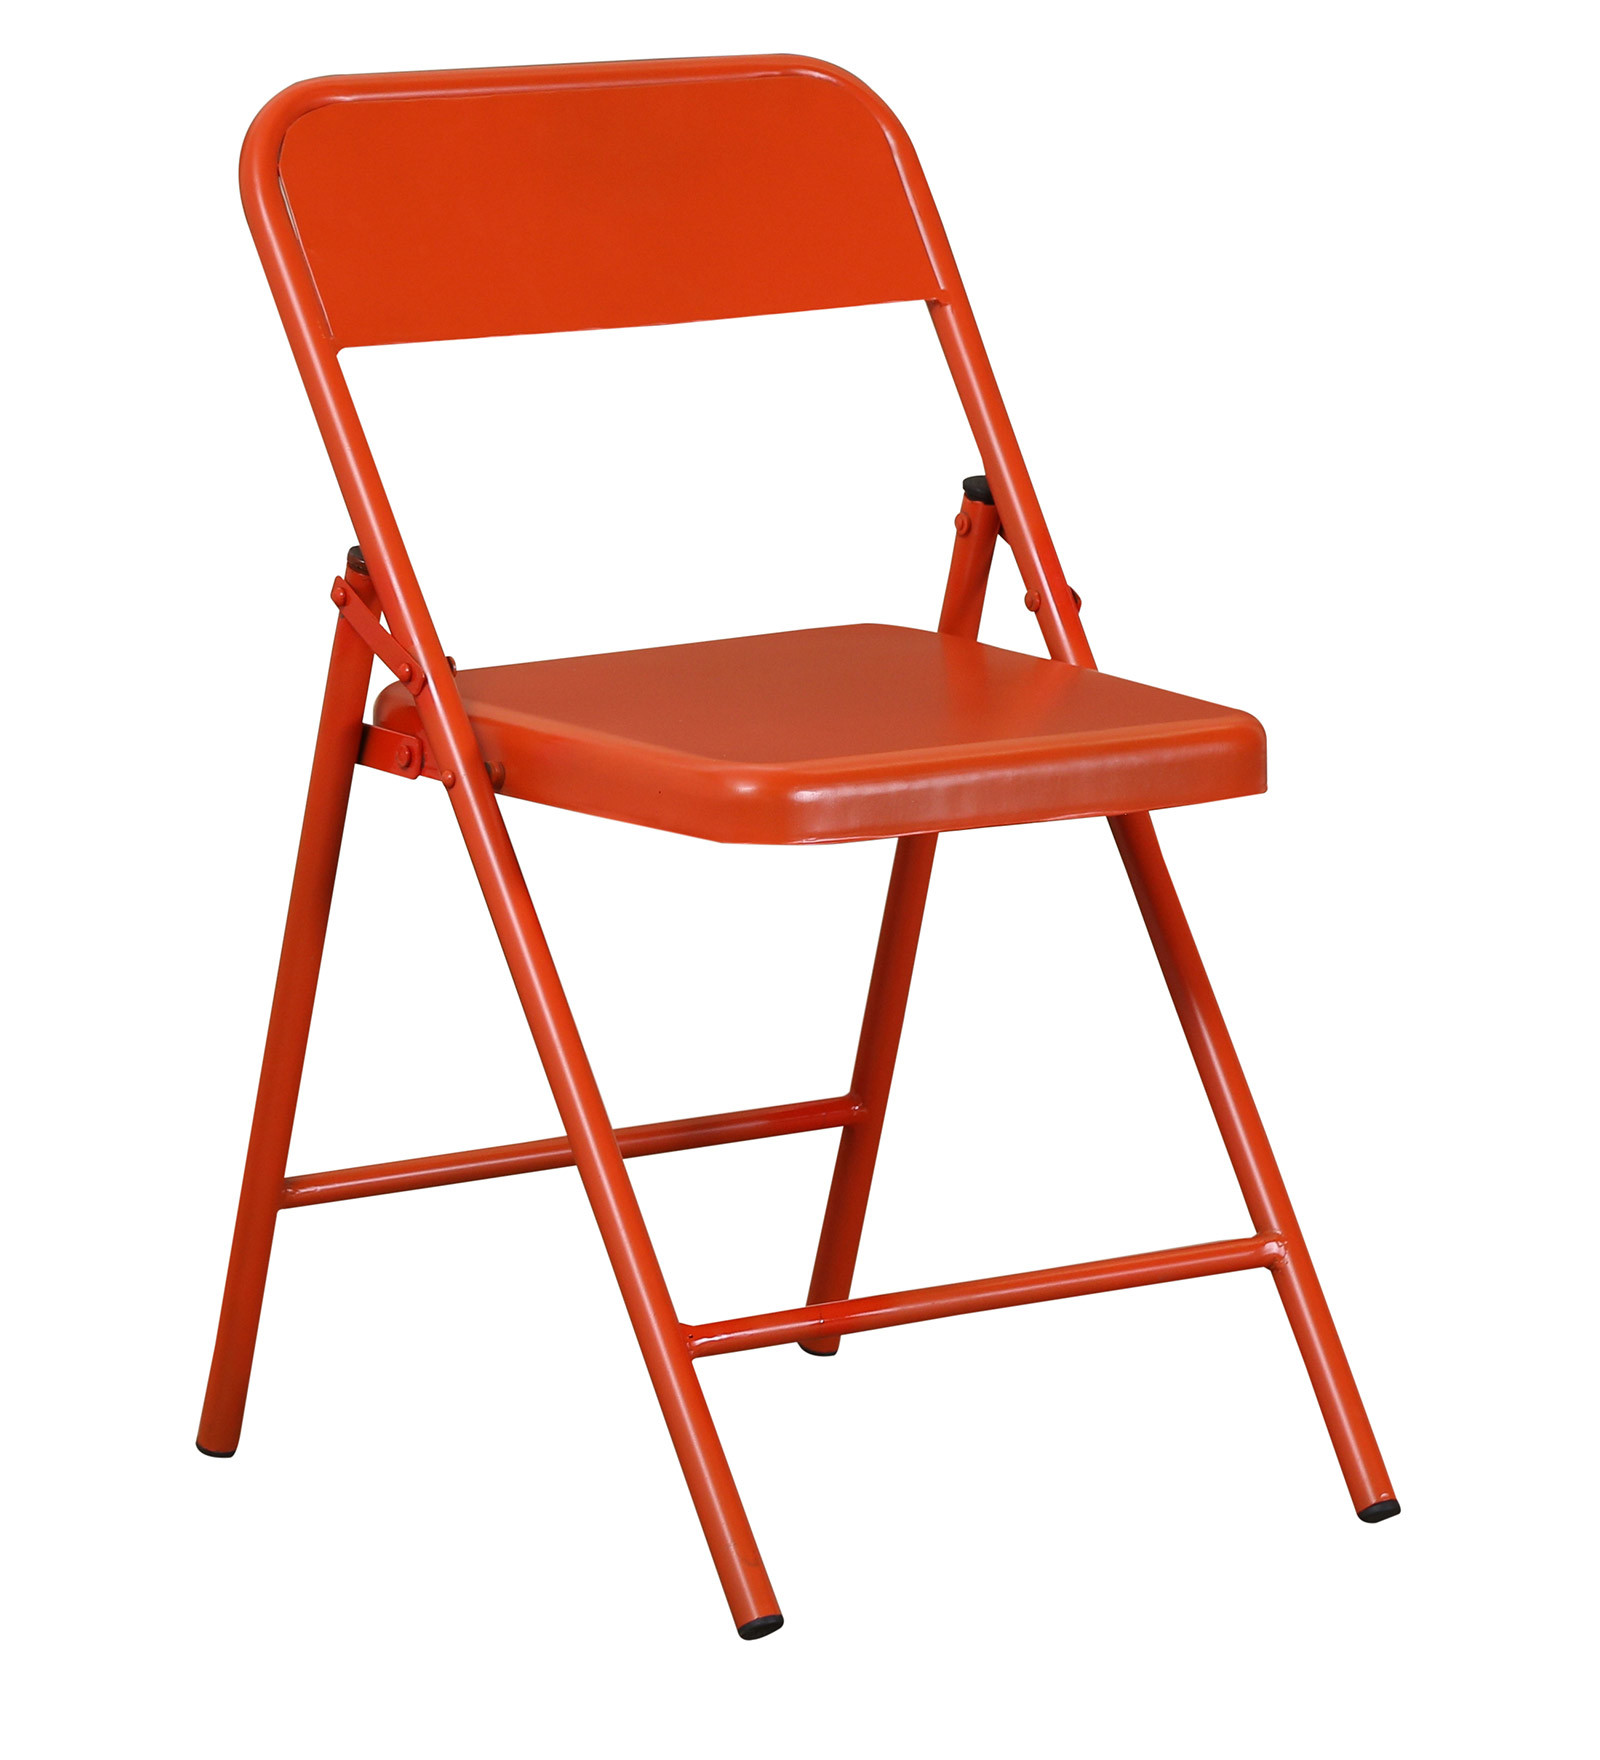Kell Folding Chair (Set of 2) in Orange Color by Bohemiana: (144, 48, 1482, 1671)
